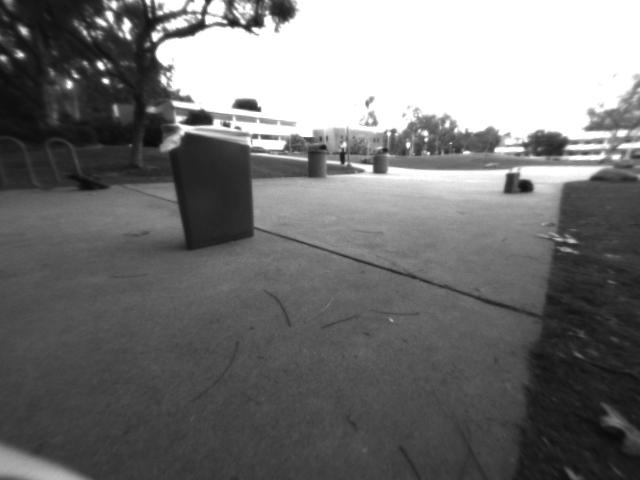trashcan_open: (162, 122, 259, 253)
